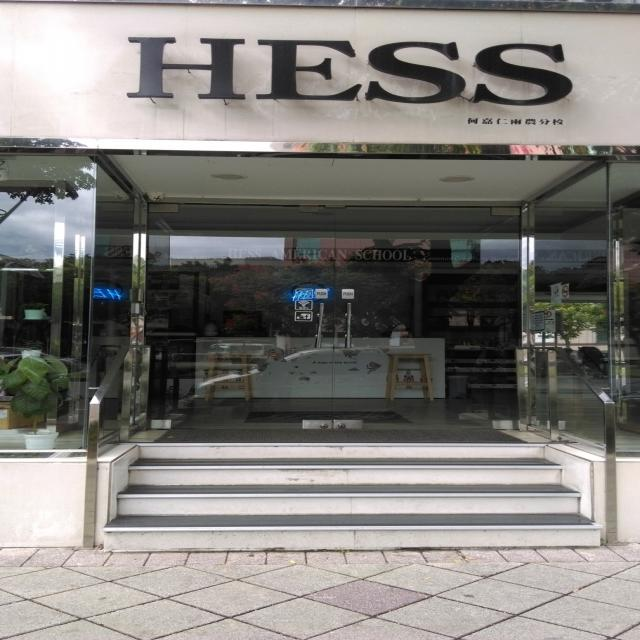AVOID: (90, 444, 599, 548)
